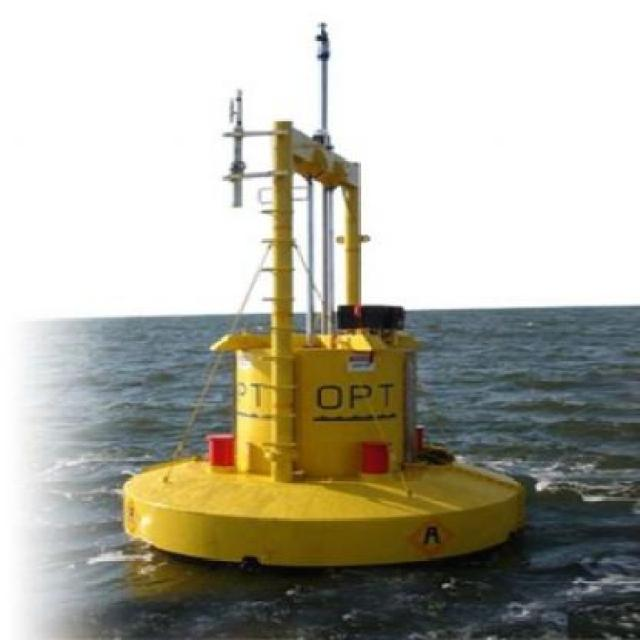buoy: (105, 8, 536, 577)
